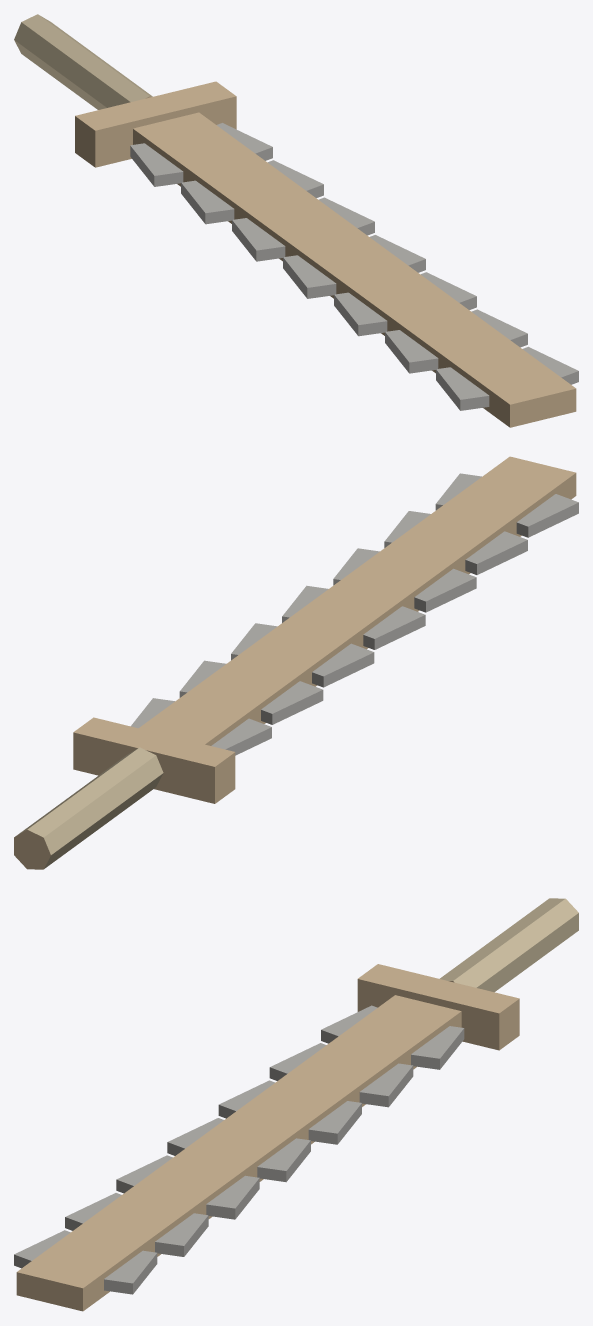
Rendered from stone_sword.glb.
3 renders of one model, top to bottom at view 1: azimuth 30°, elevation 25°; view 2: azimuth 150°, elevation 25°; view 3: azimuth 330°, elevation 25°, orthographic.
Visible parts, largest first — view 1: Sword; view 2: Sword; view 3: Sword.
Boxes of the visible parts, x1,y1,x2,y2 form: Sword: (14,14,578,427); Sword: (14,456,578,869); Sword: (14,898,578,1311).
Size of the model in its own units: 0.16 by 0.0429 by 1.
